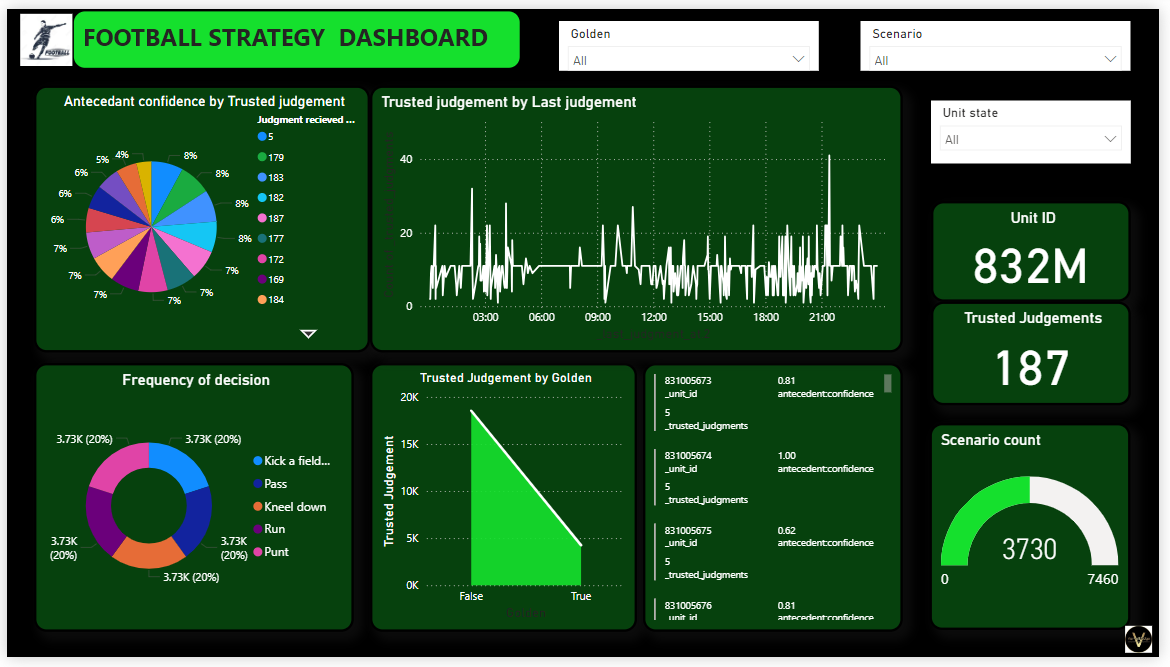

The page's visual inventory and layout, read from the dashboard file:
{"tool":"powerbi","page":{"name":"Page 1","canvas":[1280,720],"ordinal":0},"visuals":[{"type":"textbox","box":[71.8,0,500.8,68],"z":0},{"type":"image","box":[0,0,86.9,68],"z":1000},{"type":"pieChart","fields":{"Category":["Football-Scenarios-DFE-832307 (2)._trusted_judgments"],"Y":["Max(Football-Scenarios-DFE-832307 (2).antecedent:confidence)"]},"box":[30,85,373.3,296.7],"z":2000},{"type":"areaChart","fields":{"Category":["Football-Scenarios-DFE-832307 (2)._golden"],"Y":["Sum(Football-Scenarios-DFE-832307 (2)._trusted_judgments)"]},"box":[403.3,393.3,296.7,298.3],"z":3000},{"type":"multiRowCard","fields":{"Values":["Football-Scenarios-DFE-832307 (2)._unit_id","Football-Scenarios-DFE-832307 (2).antecedent:confidence","Football-Scenarios-DFE-832307 (2)._trusted_judgments"]},"box":[706.7,393.3,288.3,298.3],"z":4000},{"type":"lineChart","title":"Trusted judgement by Last judgement","fields":{"Y":["CountNonNull(Football-Scenarios-DFE-832307 (2)._trusted_judgments)"],"Category":["Football-Scenarios-DFE-832307 (2)._last_judgment_at.2"]},"box":[403.3,85,591.7,296.7],"z":5000},{"type":"card","title":"Unit ID","fields":{"Values":["Max(Football-Scenarios-DFE-832307 (2)._unit_id)"]},"box":[1026.7,213.3,221.7,111.7],"z":6000},{"type":"card","title":"Trusted Judgements","fields":{"Values":["Max(Football-Scenarios-DFE-832307 (2)._trusted_judgments)"]},"box":[1026.7,325,221.7,115],"z":7000},{"type":"gauge","title":"Scenario count","fields":{"Y":["CountNonNull(Football-Scenarios-DFE-832307 (2).orig_antecedent)"]},"box":[1025,460,223.3,230],"z":8000},{"type":"donutChart","title":"Frequency of decision","fields":{"Y":["CountNonNull(Football-Scenarios-DFE-832307 (2).option2)","CountNonNull(Football-Scenarios-DFE-832307 (2).option4)","CountNonNull(Football-Scenarios-DFE-832307 (2).option5)","CountNonNull(Football-Scenarios-DFE-832307 (2).option3)","CountNonNull(Football-Scenarios-DFE-832307 (2).option1)"]},"box":[30,393.3,355,298.3],"z":9000},{"type":"slicer","title":"Golden","fields":{"Values":["Football-Scenarios-DFE-832307 (2)._golden"]},"box":[613.3,13.3,288.3,55],"z":10000},{"type":"slicer","title":"Scenario","fields":{"Values":["Football-Scenarios-DFE-832307 (2).orig_antecedent"]},"box":[948.3,13.3,300,55],"z":11000},{"type":"slicer","fields":{"Values":["Football-Scenarios-DFE-832307 (2)._unit_state"]},"box":[1026.7,101.7,221.7,70],"z":13000}]}

Visuals, with their boxes in screenshot pixels (x1, y1, x2, y2), scaled from the page's 1280x720 canvas onto the 1170x667 screenshot:
textbox: region(66, 0, 523, 63)
image: region(0, 0, 79, 63)
pieChart - Football-Scenarios-DFE-832307 (2)._trusted_judgments x Max(Football-Scenarios-DFE-832307 (2).antecedent:confidence): region(27, 79, 369, 354)
areaChart - Football-Scenarios-DFE-832307 (2)._golden x Sum(Football-Scenarios-DFE-832307 (2)._trusted_judgments): region(369, 364, 640, 641)
multiRowCard - Football-Scenarios-DFE-832307 (2)._unit_id x Football-Scenarios-DFE-832307 (2).antecedent:confidence: region(646, 364, 909, 641)
"Trusted judgement by Last judgement" lineChart: region(369, 79, 909, 354)
"Unit ID" card: region(938, 198, 1141, 301)
"Trusted Judgements" card: region(938, 301, 1141, 408)
"Scenario count" gauge: region(937, 426, 1141, 639)
"Frequency of decision" donutChart: region(27, 364, 352, 641)
"Golden" slicer: region(561, 12, 824, 63)
"Scenario" slicer: region(867, 12, 1141, 63)
slicer - Football-Scenarios-DFE-832307 (2)._unit_state: region(938, 94, 1141, 159)
